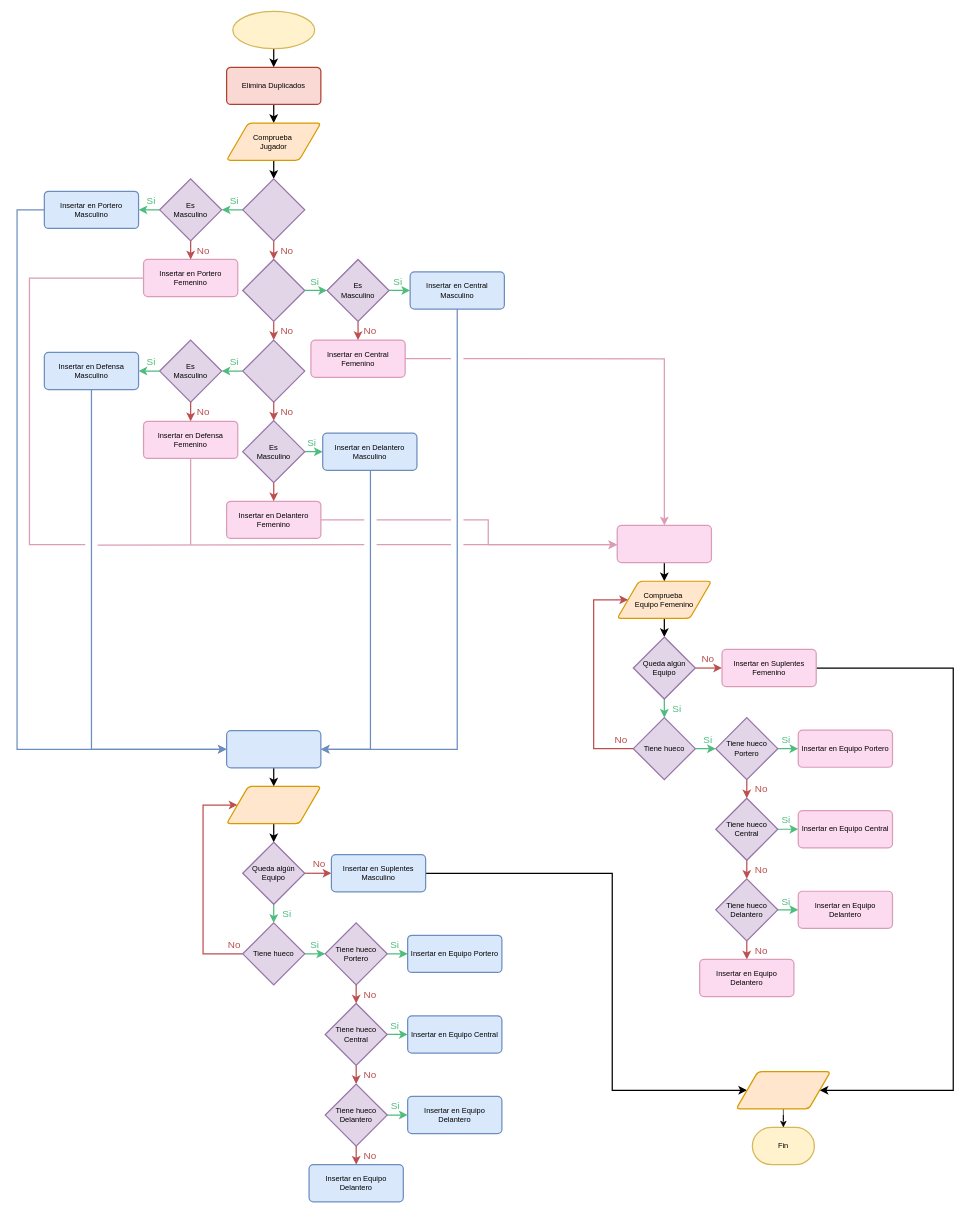
The diagram is 970 pixels wide and 1213 high, and some of its shapes have lost their labels. Here are the shapes that lost their labels. From the top down, the box of each, then its label:
(232, 11, 315, 49): Inicio
(242, 178, 305, 241): Es Portero
(242, 259, 305, 322): Es Central
(242, 339, 305, 402): Es Defensa
(616, 525, 712, 563): Insertar en Femenino
(226, 730, 321, 768): Insertar en Masculino
(226, 786, 321, 824): Comprueba Equipo Masculino
(735, 1071, 831, 1109): Muestra Equipos y Suplentes
